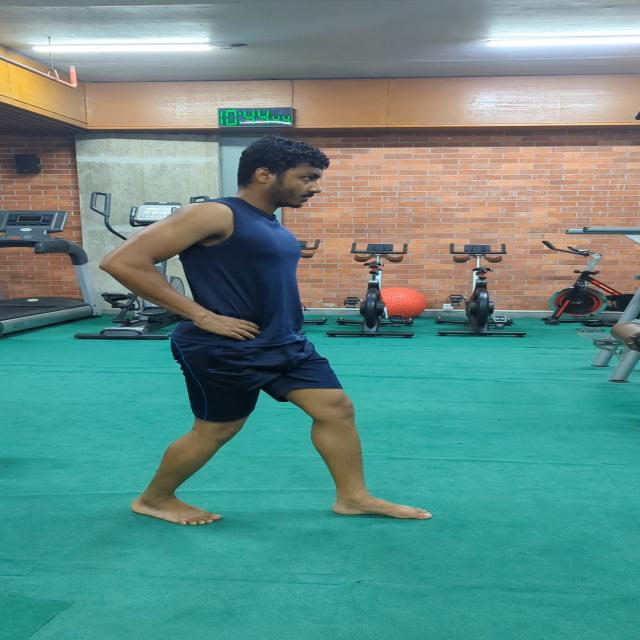Normal_Lunges: (86, 124, 452, 541)
